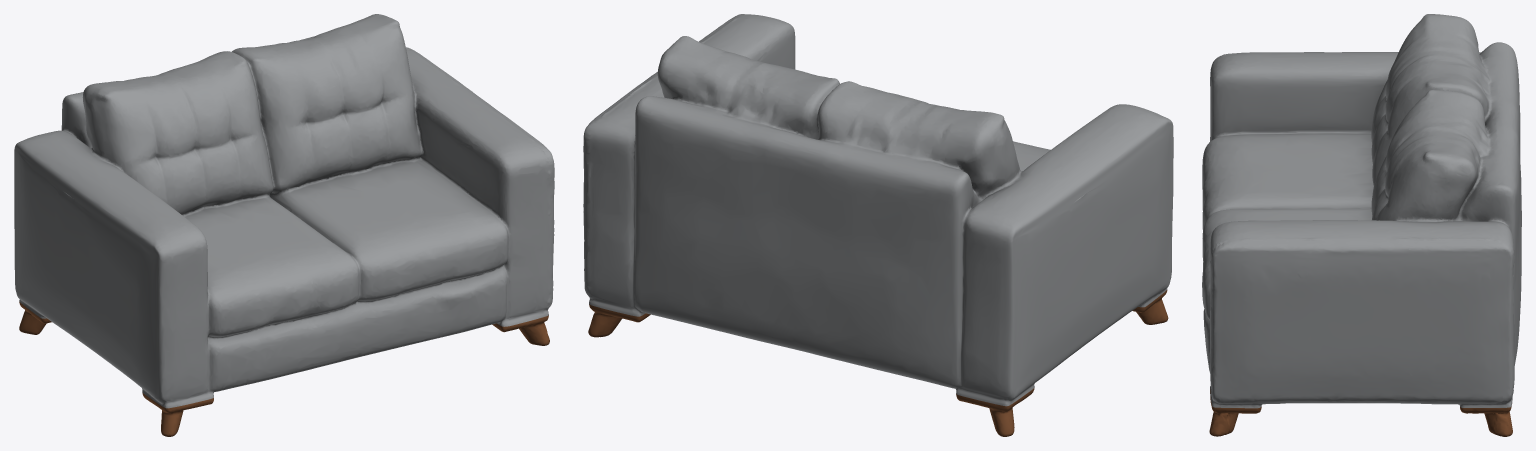
Rendered from berlim-140.glb.
3 renders of one model, left to right at view 1: azimuth 30°, elevation 25°; view 2: azimuth 150°, elevation 25°; view 3: azimuth 270°, elevation 25°, orthographic. The views are drawn at different scales.
Parts seen in each view (by area): view 1: Sofa; view 2: Sofa; view 3: Sofa.
Boxes of the visible parts, x1,y1,x2,y2 form: Sofa: (14,14,554,436); Sofa: (583,14,1173,436); Sofa: (1202,14,1521,436).
Bounding box in the file's own units: 1.4 × 0.85 × 0.95.
